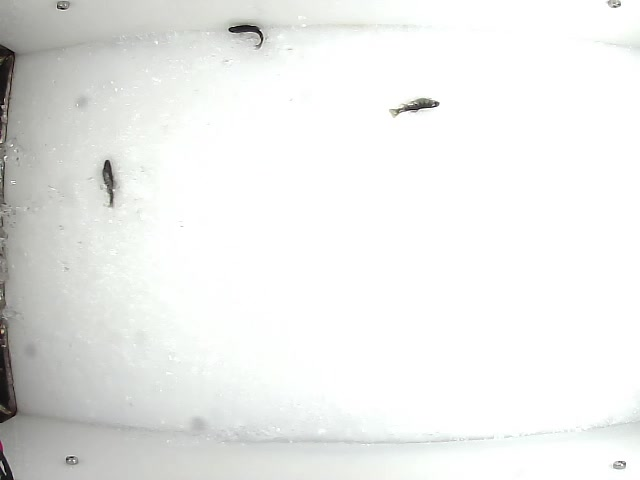fish: (387, 95, 441, 119), (226, 24, 266, 51), (98, 157, 116, 209)
